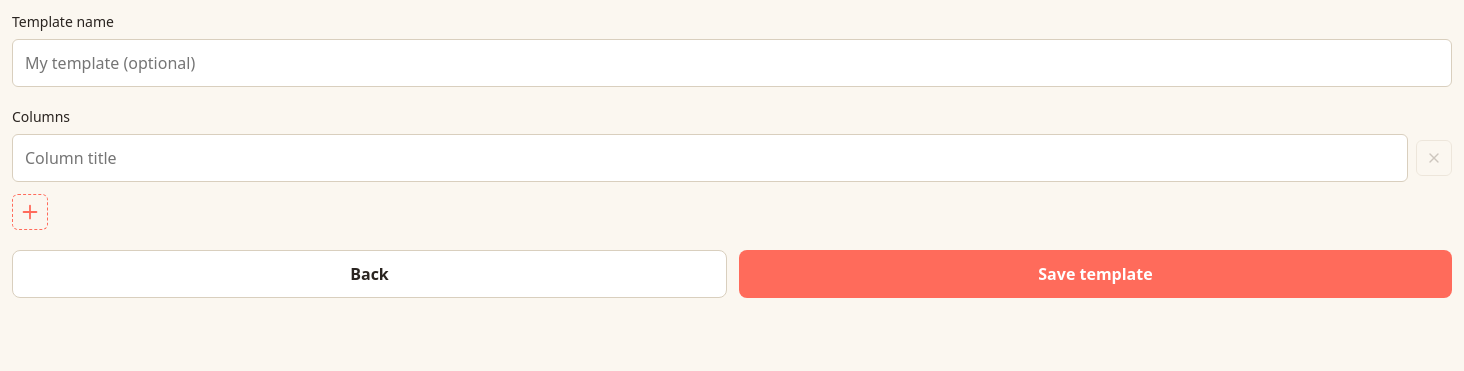
ColumnEditor › clears the form error when the user adds or removes a row
The image size is (1464, 371).
Click the button "Save template" at [1096, 274], box [739,250,1452,298]
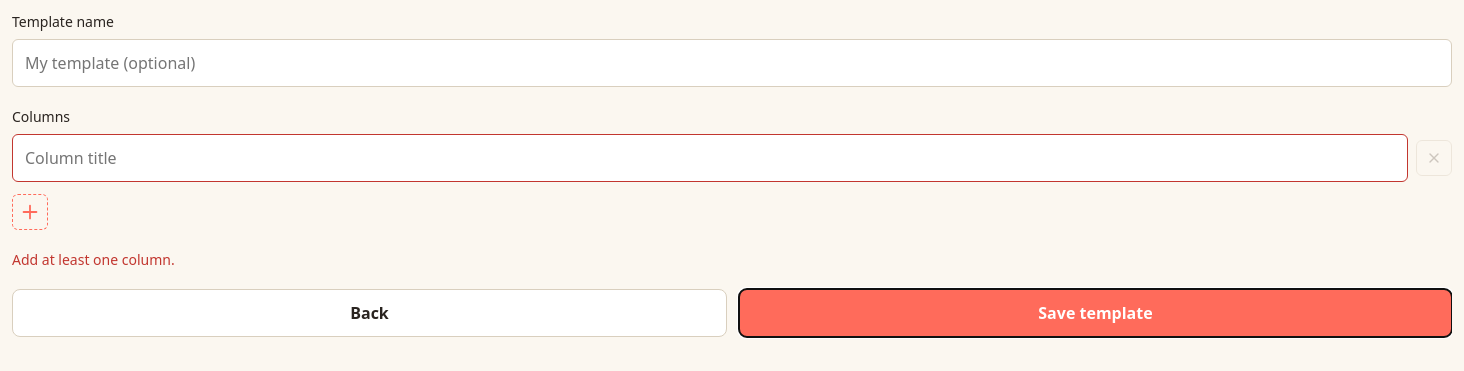
Check: the message "Add at least one column." is shown, box [12,250,175,269]
Click the button named "add column" at [30, 212], box [12,194,48,230]
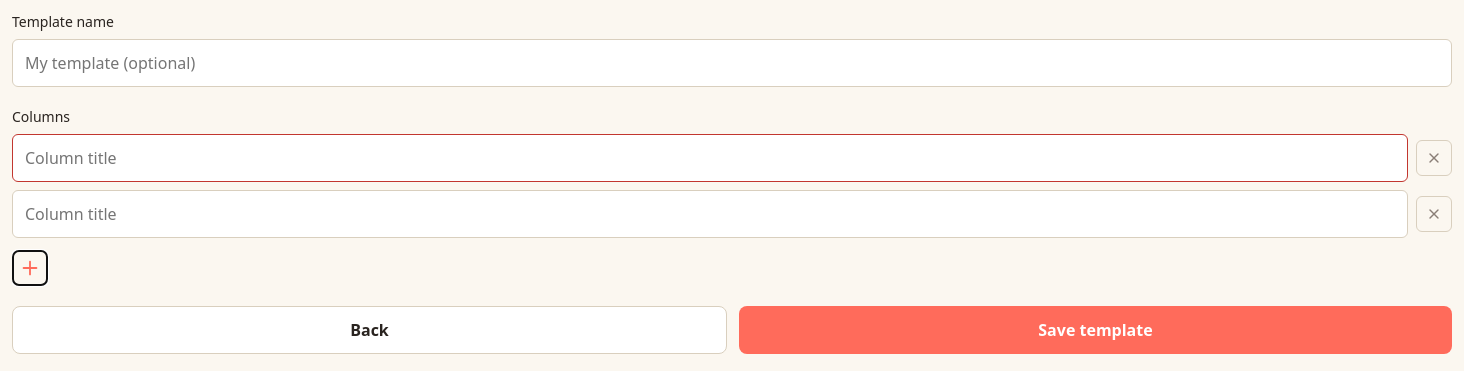
Check: the message "Add at least one column." is gone
